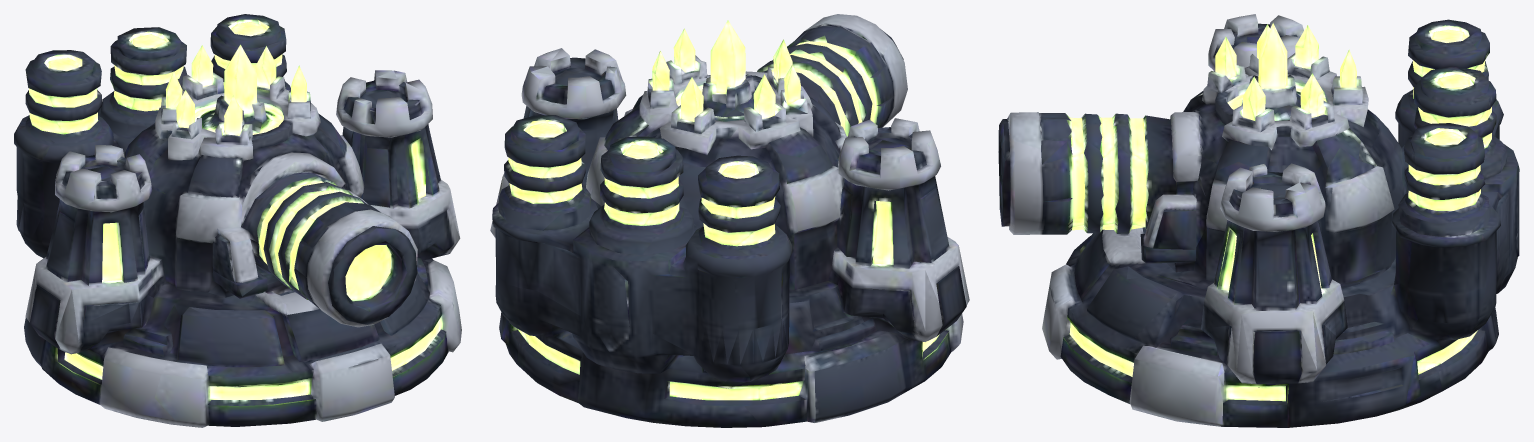
Rendered from warrior-6-tier-3.glb.
3 renders of one model, left to right at view 1: azimuth 30°, elevation 25°; view 2: azimuth 150°, elevation 25°; view 3: azimuth 270°, elevation 25°, orthographic. The views are drawn at different scales.
Visible parts, largest first — view 1: moving-assembly, fixed-platform; view 2: moving-assembly, fixed-platform; view 3: moving-assembly, fixed-platform.
Boxes of the visible parts, bbox=[...] form: moving-assembly: bbox=[14, 14, 459, 342]; fixed-platform: bbox=[16, 201, 461, 427]; moving-assembly: bbox=[492, 14, 966, 364]; fixed-platform: bbox=[490, 177, 969, 427]; moving-assembly: bbox=[998, 14, 1519, 372]; fixed-platform: bbox=[1042, 227, 1519, 427].
Size of the model in its own units: 1.71 by 1.17 by 1.77.
Materials: 1 (1 with a texture image).
